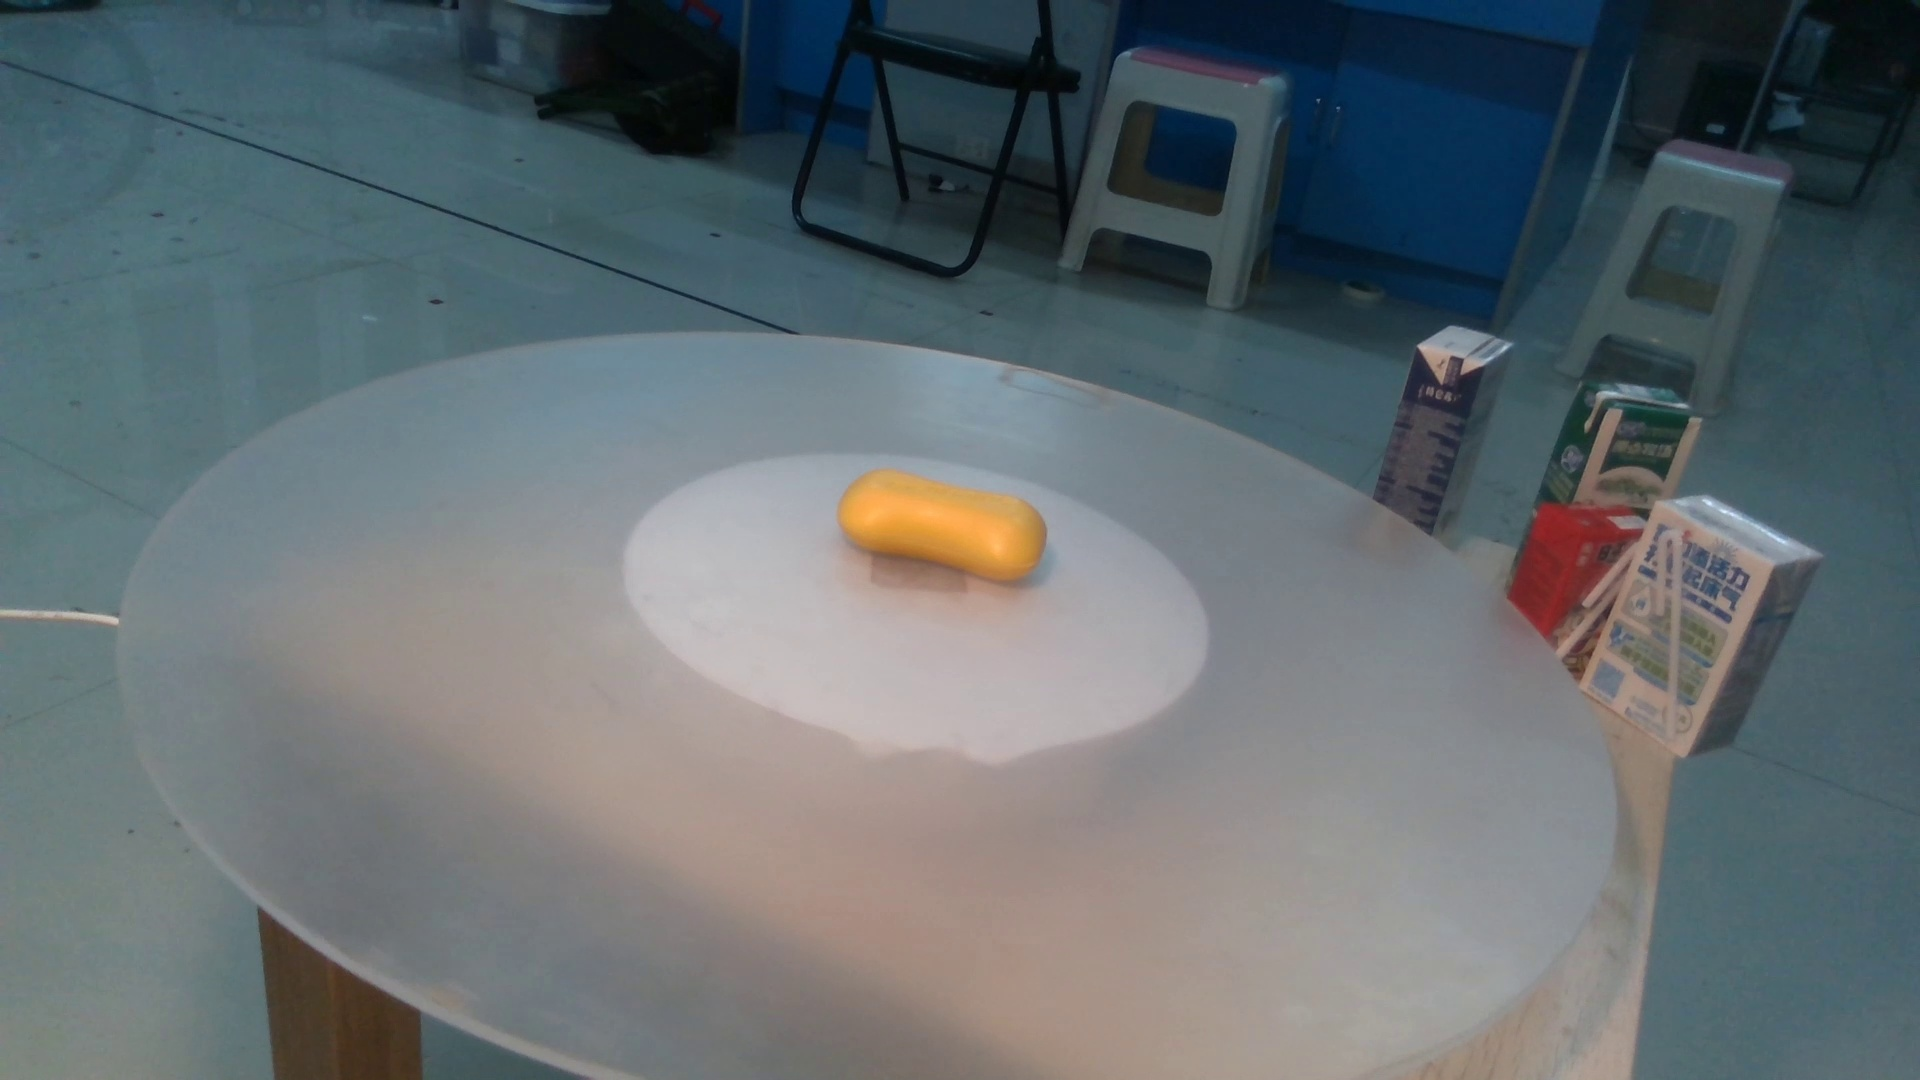CA003_1: (833, 450, 1064, 589)
